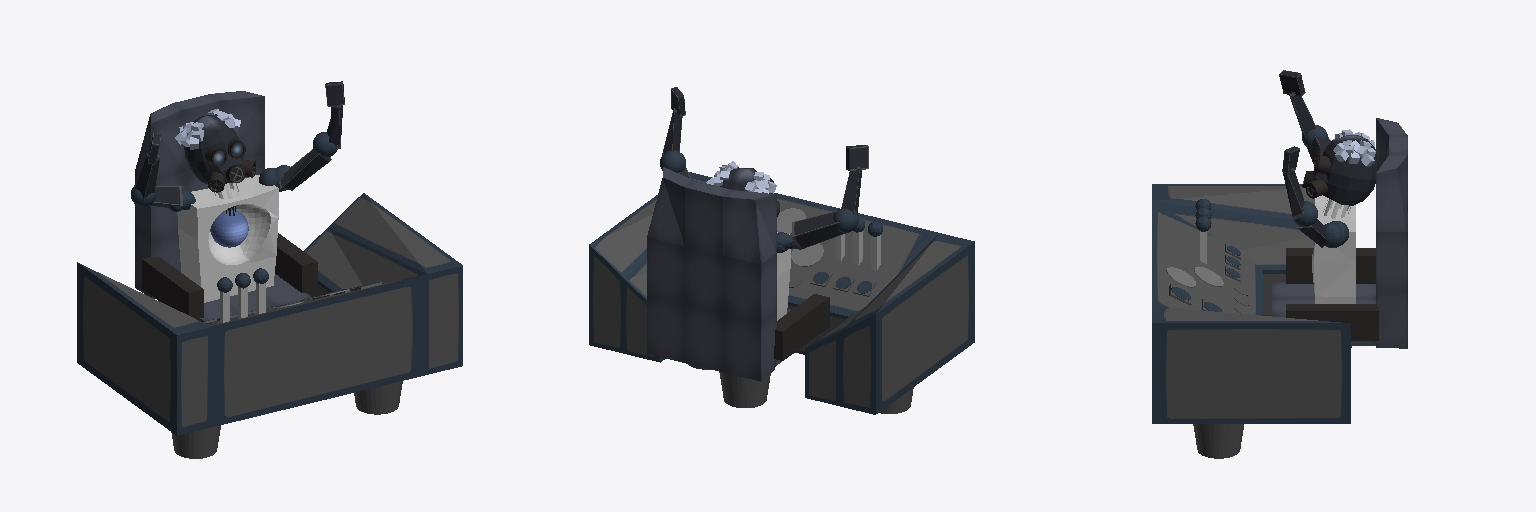
3 renders of one model, left to right at view 1: azimuth 30°, elevation 25°; view 2: azimuth 150°, elevation 25°; view 3: azimuth 270°, elevation 25°, orthographic.
Parts seen in each view (by area): view 1: 立方体.036, 立方体.022, 立方体.040; view 2: 立方体.036, 立方体.040, 立方体.022; view 3: 立方体.036, 立方体.040, 立方体.022.
Part boxes in pixels (x1,y1,x2,y2): 立方体.036: (77, 193, 462, 458); 立方体.022: (131, 81, 344, 302); 立方体.040: (135, 91, 317, 324); 立方体.036: (589, 172, 974, 414); 立方体.040: (647, 167, 829, 381); 立方体.022: (660, 87, 868, 320); 立方体.036: (1152, 184, 1351, 458); 立方体.040: (1272, 118, 1407, 348); 立方体.022: (1279, 70, 1378, 303).
Bounding box in the file's own units: 15.63 × 15.59 × 12.11.
Materials: 13 (12 with a texture image).